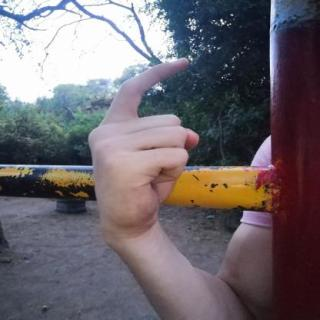RAA: (78, 49, 210, 247)
